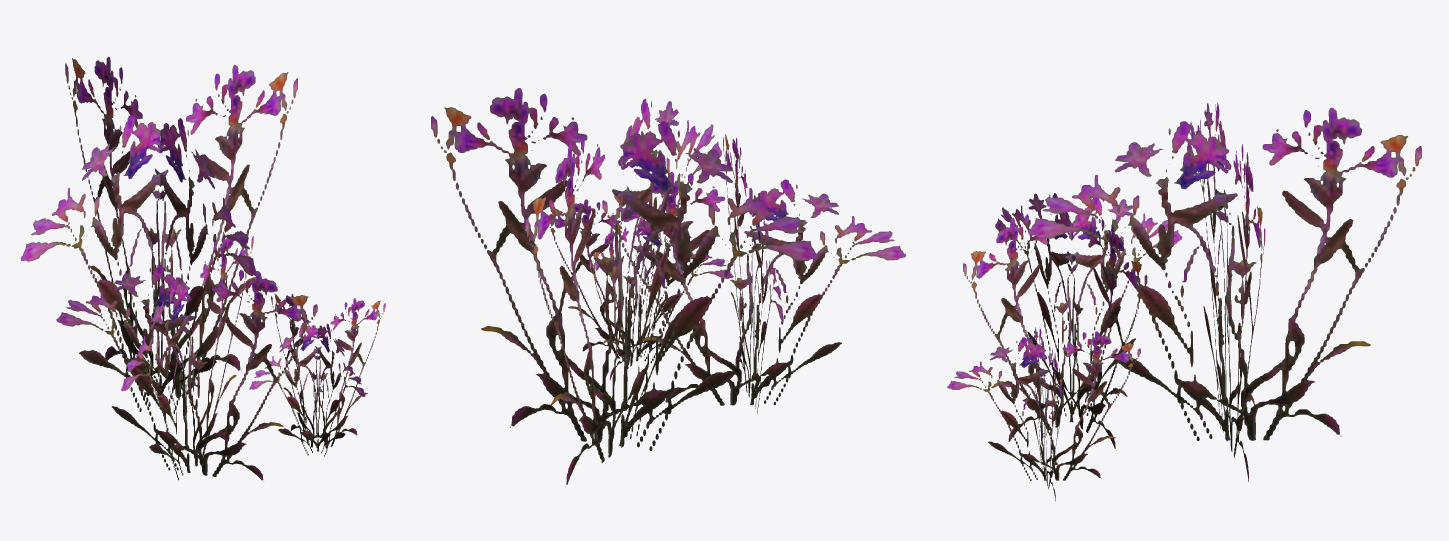
The model's file is bush04_3.FBX.
The picture shows the model from 3 angles, left to right: view 1: azimuth 30°, elevation 25°; view 2: azimuth 150°, elevation 25°; view 3: azimuth 270°, elevation 25°; orthographic projection. The views are drawn at different scales.
Parts seen in each view (by area): view 1: 510灌木_花灌木_12; view 2: 510灌木_花灌木_12; view 3: 510灌木_花灌木_12.
Part boxes in pixels (left/top/right/bottom): 510灌木_花灌木_12: left=20, top=56, right=385, bottom=481; 510灌木_花灌木_12: left=431, top=88, right=905, bottom=487; 510灌木_花灌木_12: left=947, top=103, right=1421, bottom=501.
Size of the model in its own units: 106 by 98.74 by 128.
